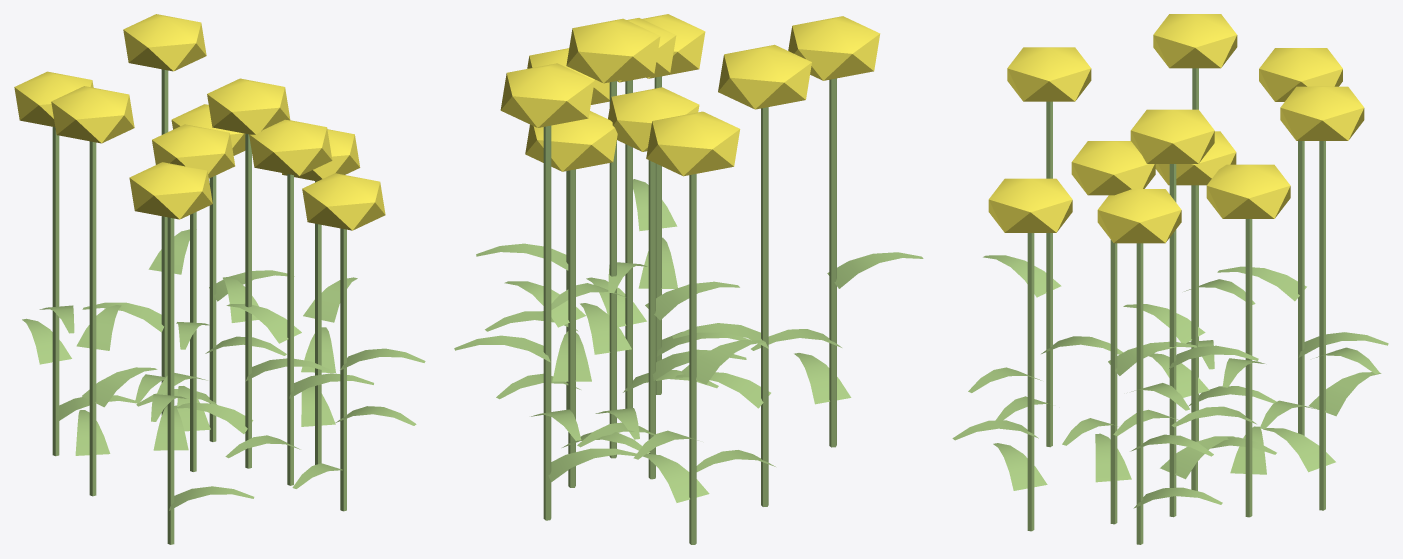
File: Uprawa_Rzepak_1.fbx
3 views of the same model, side by side, from view 1: azimuth 30°, elevation 25°; view 2: azimuth 150°, elevation 25°; view 3: azimuth 270°, elevation 25° (orthographic). The views are drawn at different scales.
Parts seen in each view (by area): view 1: Uprawa_Rzepak_1; view 2: Uprawa_Rzepak_1; view 3: Uprawa_Rzepak_1.
Part boxes in pixels (<box>): Uprawa_Rzepak_1: <box>14,14,425,544</box>; Uprawa_Rzepak_1: <box>454,14,923,544</box>; Uprawa_Rzepak_1: <box>952,14,1388,544</box>.
Bounding box in the file's own units: 1.19 × 1.53 × 1.41.
